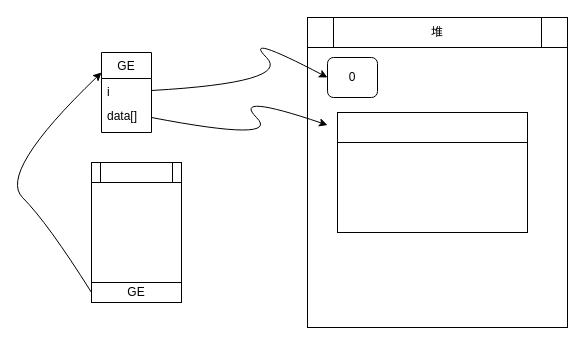
This 586x345 diagram has some shape labels left out. Each missing label, with the centre of its shape:
"call stack" belongs at (136,172).
"console.log(i)" belongs at (432,127).
